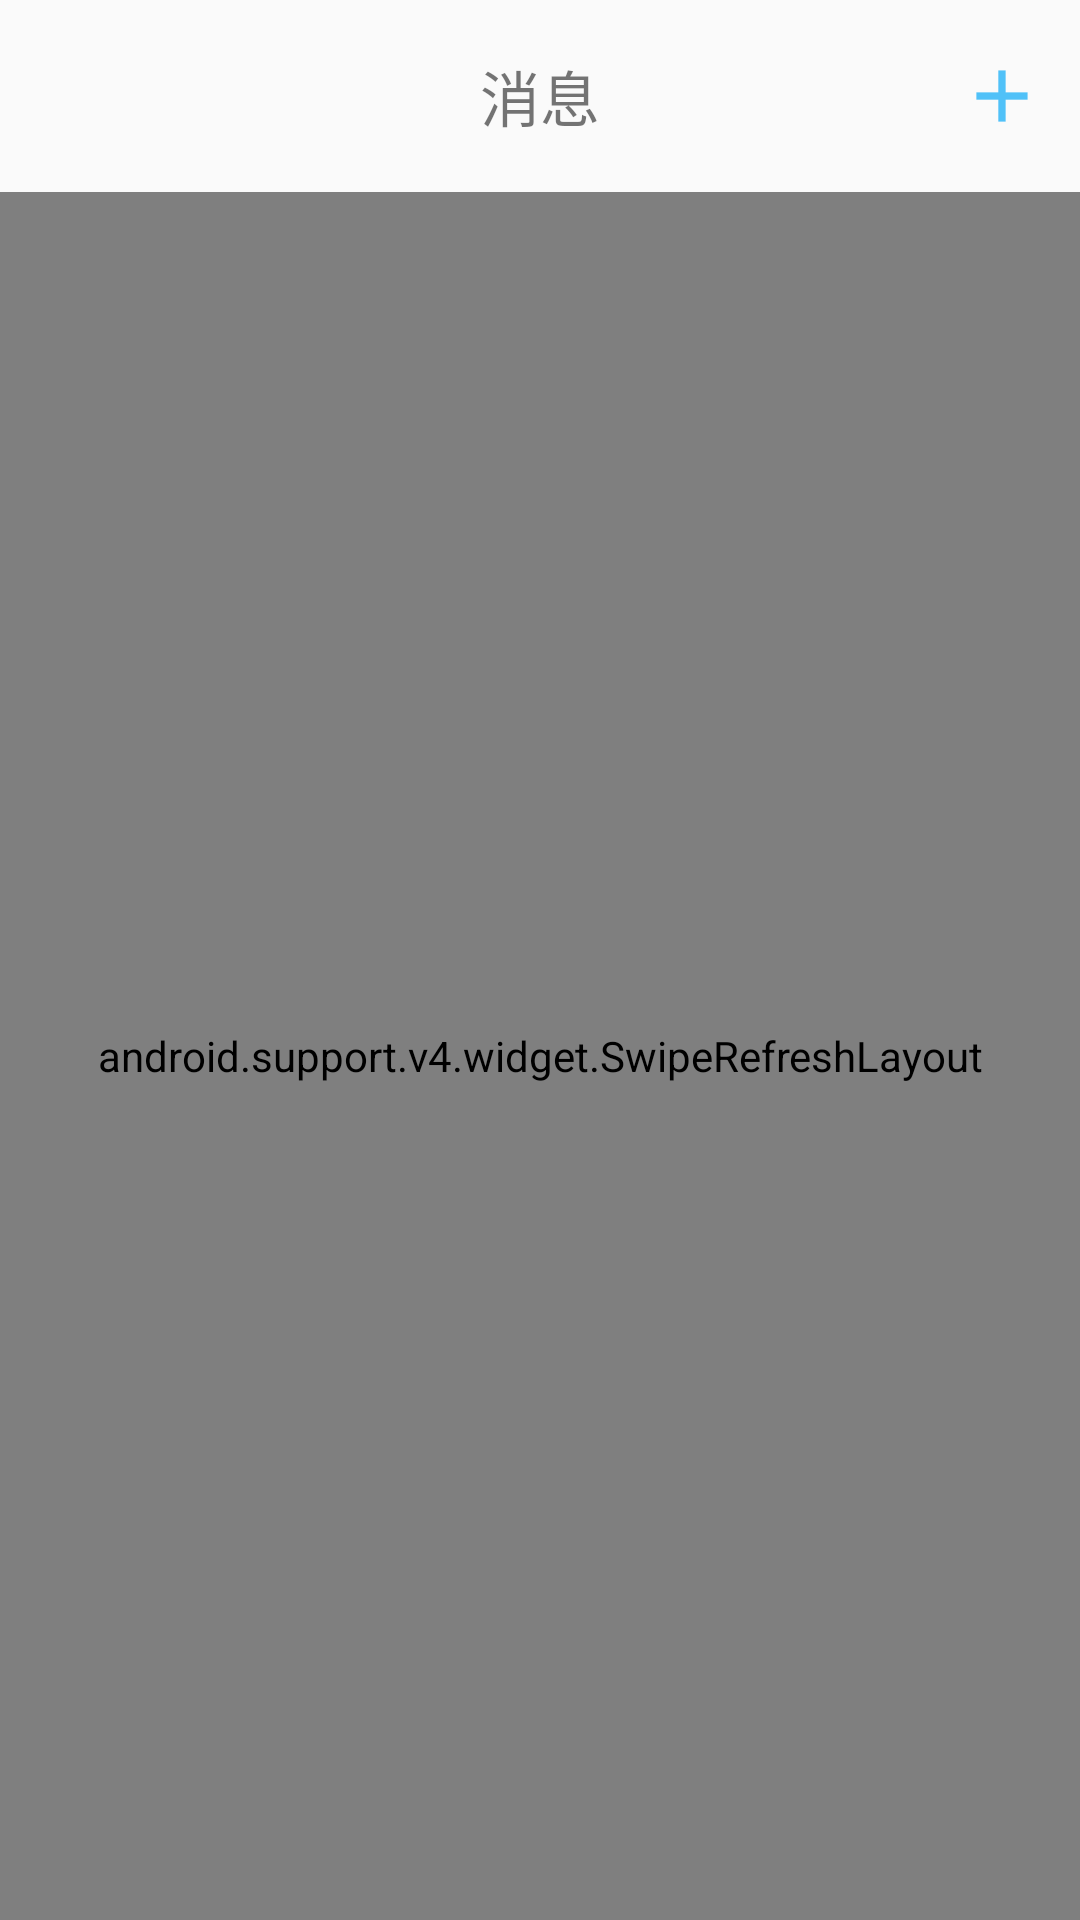

Named icons in this screenshot (1080w x 1920h) and their centers, (x=x, y=y):
add: (x=1002, y=96)
